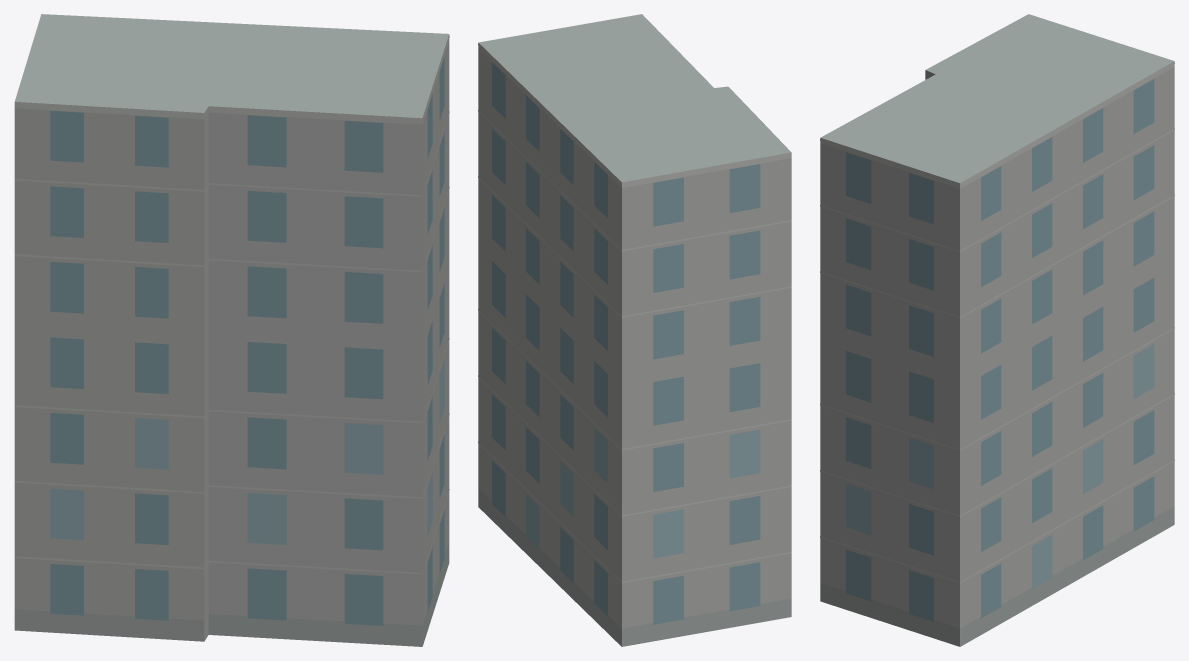
Rendered from survey-upis-33024117.glb.
The picture shows the model from 3 angles, left to right: view 1: azimuth 30°, elevation 25°; view 2: azimuth 150°, elevation 25°; view 3: azimuth 270°, elevation 25°; orthographic projection. The views are drawn at different scales.
Parts seen in each view (by area): view 1: survey-upis-33024117.tmp; view 2: survey-upis-33024117.tmp; view 3: survey-upis-33024117.tmp.
Part boxes in pixels (x1=…): survey-upis-33024117.tmp: x1=14, y1=14, x2=449, y2=646; survey-upis-33024117.tmp: x1=478, y1=14, x2=791, y2=646; survey-upis-33024117.tmp: x1=820, y1=14, x2=1174, y2=646.
Bounding box in the file's own units: 15.6 × 19.9 × 13.81.
